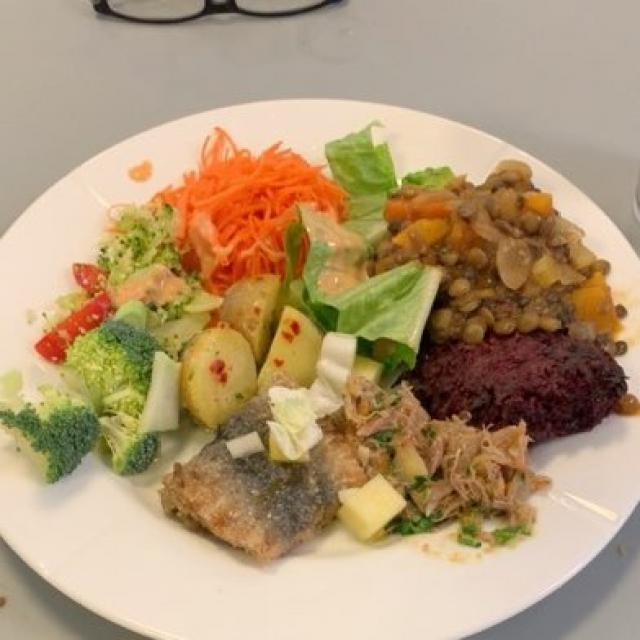beetroot: (417, 333, 623, 437)
broccoli: (16, 210, 200, 486)
carrot: (119, 137, 346, 284)
lentils: (359, 173, 625, 368)
potatoes: (179, 274, 328, 431)
salad: (273, 139, 465, 453), (301, 206, 367, 301)
